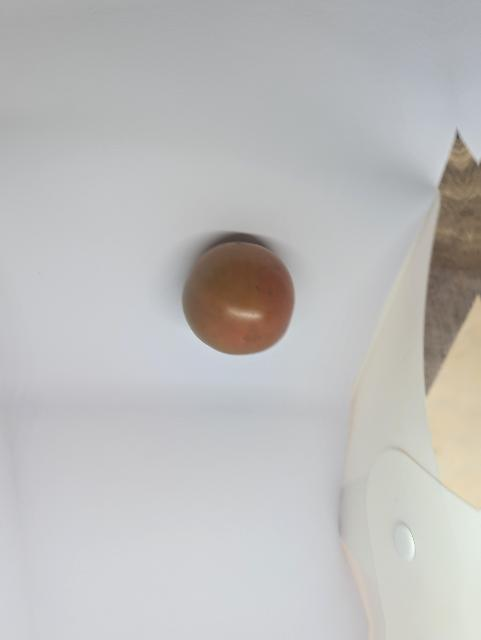turning: (176, 237, 300, 363)
